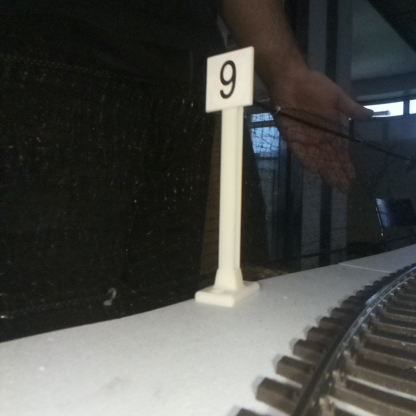white-info-9: (207, 48, 252, 301)
